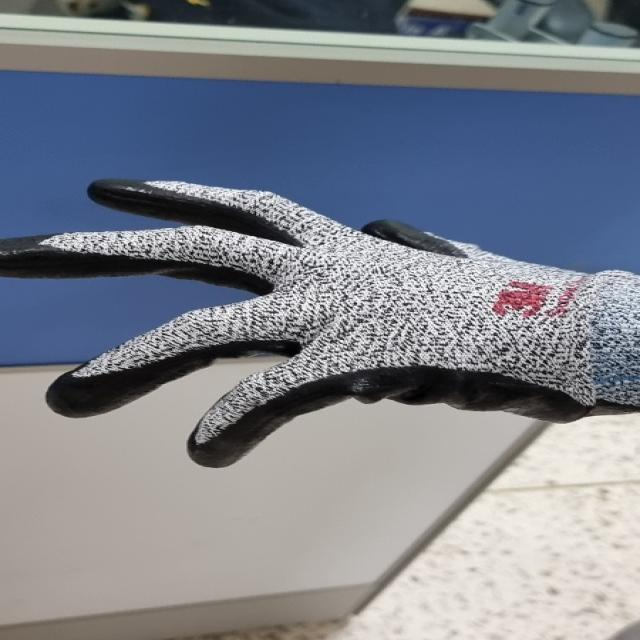Gloves: (2, 173, 640, 466)
